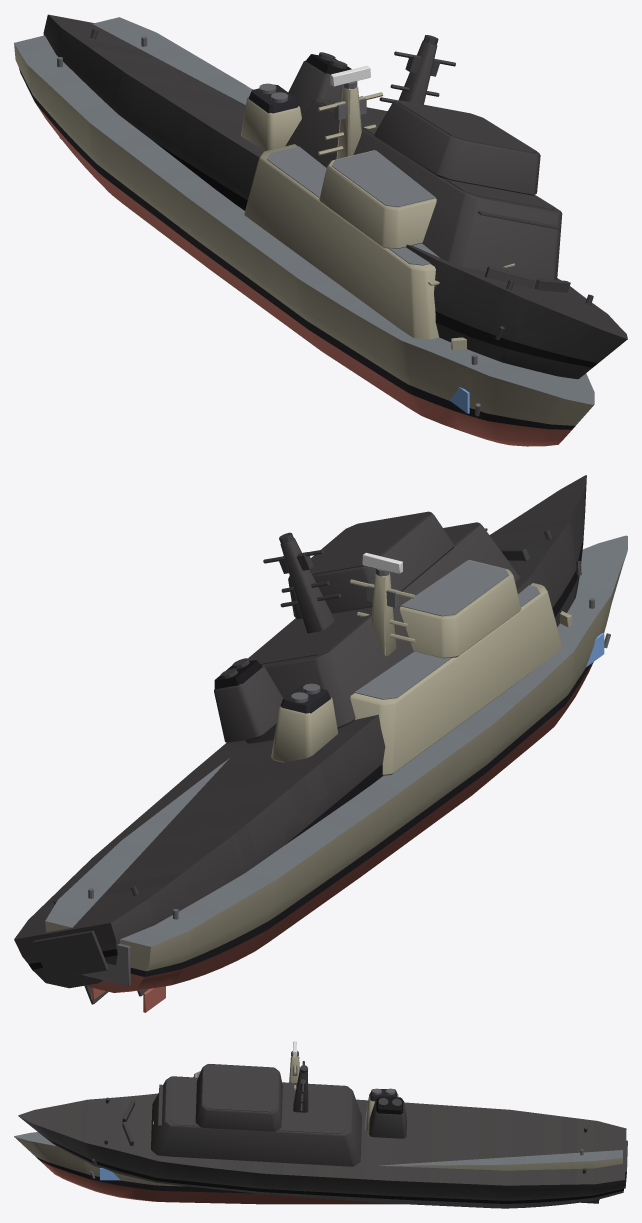
Rendered from gunboat__flamant_class.glb.
3 renders of one model, top to bottom at view 1: azimuth 30°, elevation 25°; view 2: azimuth 150°, elevation 25°; view 3: azimuth 270°, elevation 25°, orthographic. The views are drawn at different scales.
Parts seen in each view (by area): view 1: Hull_Mesh, Wreck, Radar_Mesh; view 2: Hull_Mesh, Wreck; view 3: Wreck, Hull_Mesh.
Part boxes in pixels (x1=…): Hull_Mesh: x1=14, y1=17, x2=594, y2=446; Wreck: x1=43, y1=14, x2=627, y2=379; Radar_Mesh: x1=330, y1=65, x2=370, y2=88; Hull_Mesh: x1=45, y1=535, x2=627, y2=1012; Wreck: x1=14, y1=475, x2=586, y2=1004; Wreck: x1=18, y1=1061, x2=627, y2=1208; Hull_Mesh: x1=14, y1=1056, x2=622, y2=1204.
Size of what is drawn, in the model's own units: 12.02 by 15.78 by 56.73.
